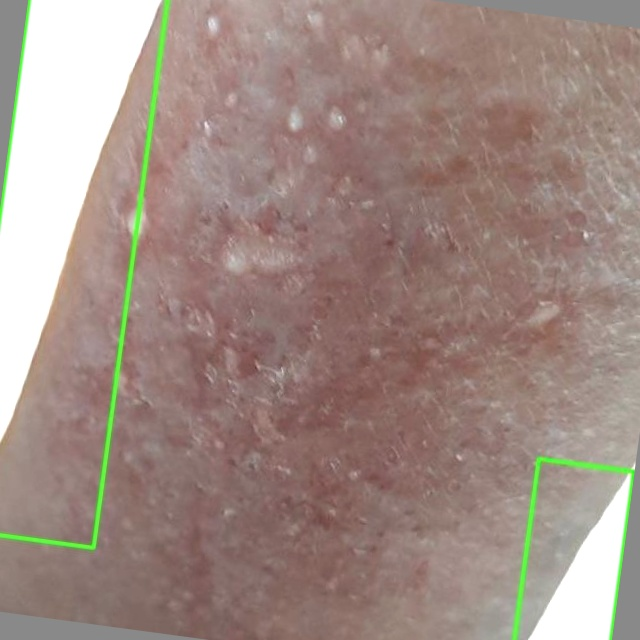Atopic Dermatitis: (0, 0, 167, 547), (514, 458, 633, 639)
